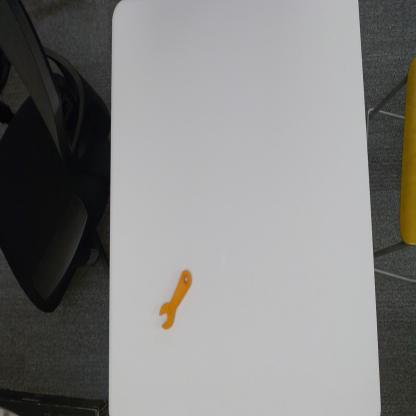Screwdriver: (158, 266, 194, 332)
